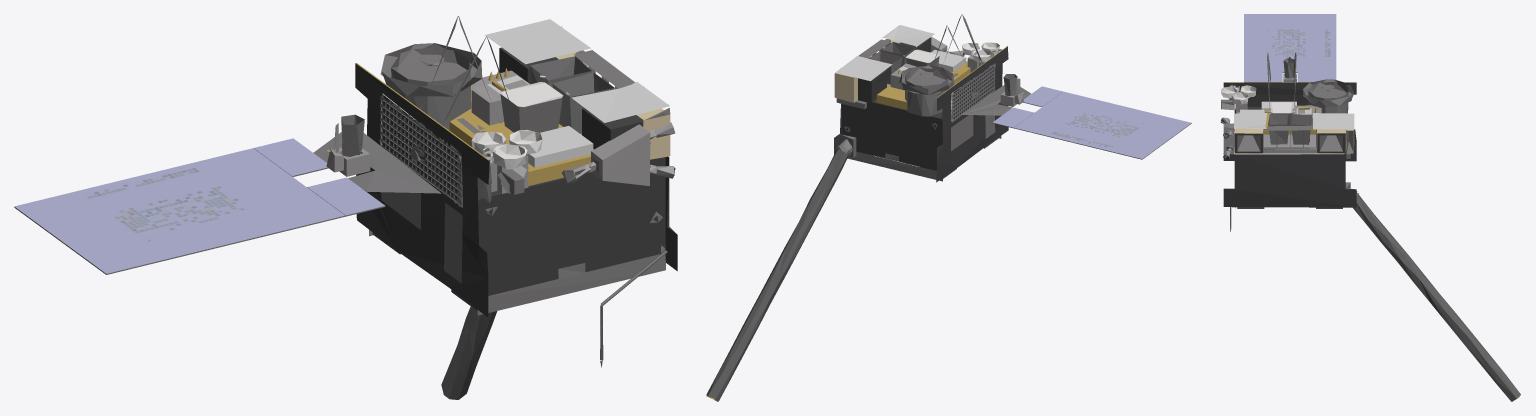
Rendered from geo-weather-preview.glb.
3 renders of one model, left to right at view 1: azimuth 30°, elevation 25°; view 2: azimuth 150°, elevation 25°; view 3: azimuth 270°, elevation 25°, orthographic. The views are drawn at different scales.
Parts seen in each view (by area): view 1: Layer_0; view 2: Layer_0; view 3: Layer_0.
Part boxes in pixels (x1,y1,x2,y2): Layer_0: (14, 16, 677, 399); Layer_0: (706, 14, 1191, 401); Layer_0: (1220, 14, 1520, 401).
Size of the model in its own units: 0.1344 by 0.1208 by 0.1109.
